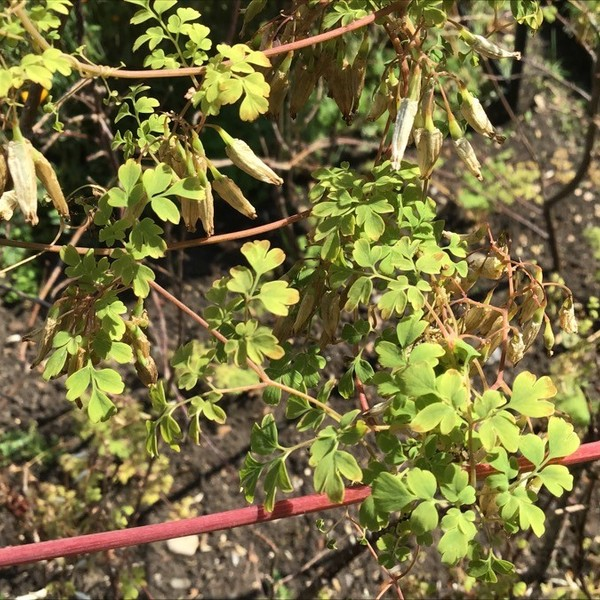obstacle: (276, 122, 530, 539), (49, 39, 225, 466)
